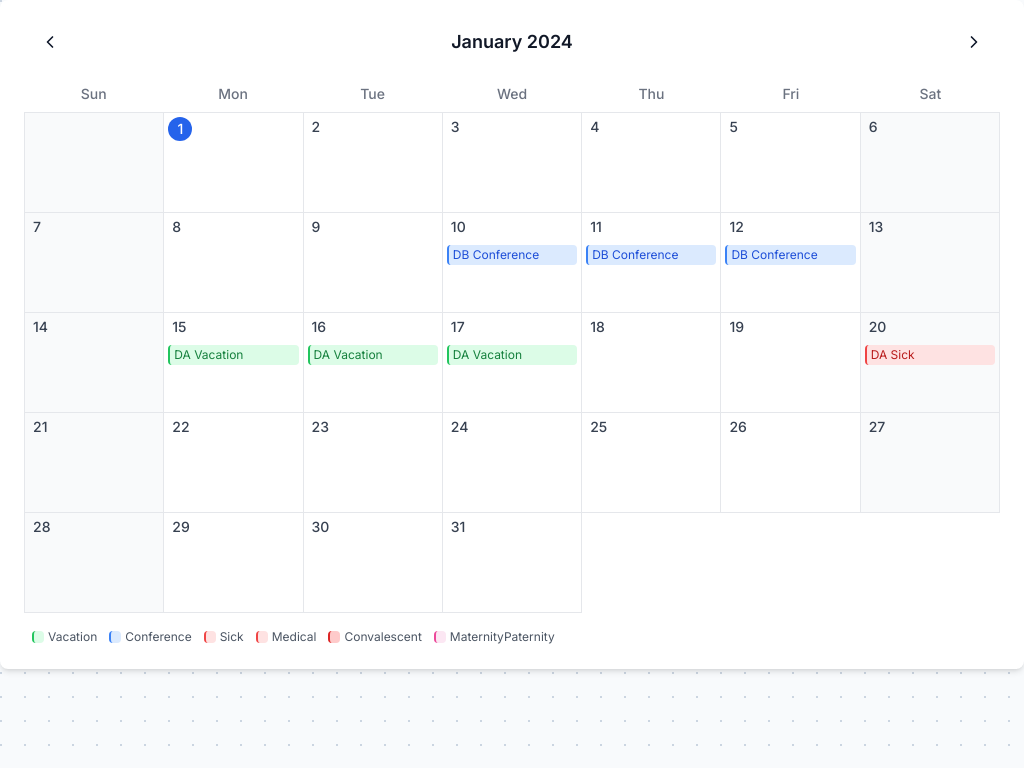
Test: BlockCalendar (AbsenceCalendar) › Navigation › should navigate to previous month
Expected: the heading "January 2024" is shown, x1=451 y1=28 x2=573 y2=56
Click the button named "Previous month" at (50, 42), box x1=32 y1=24 x2=68 y2=60
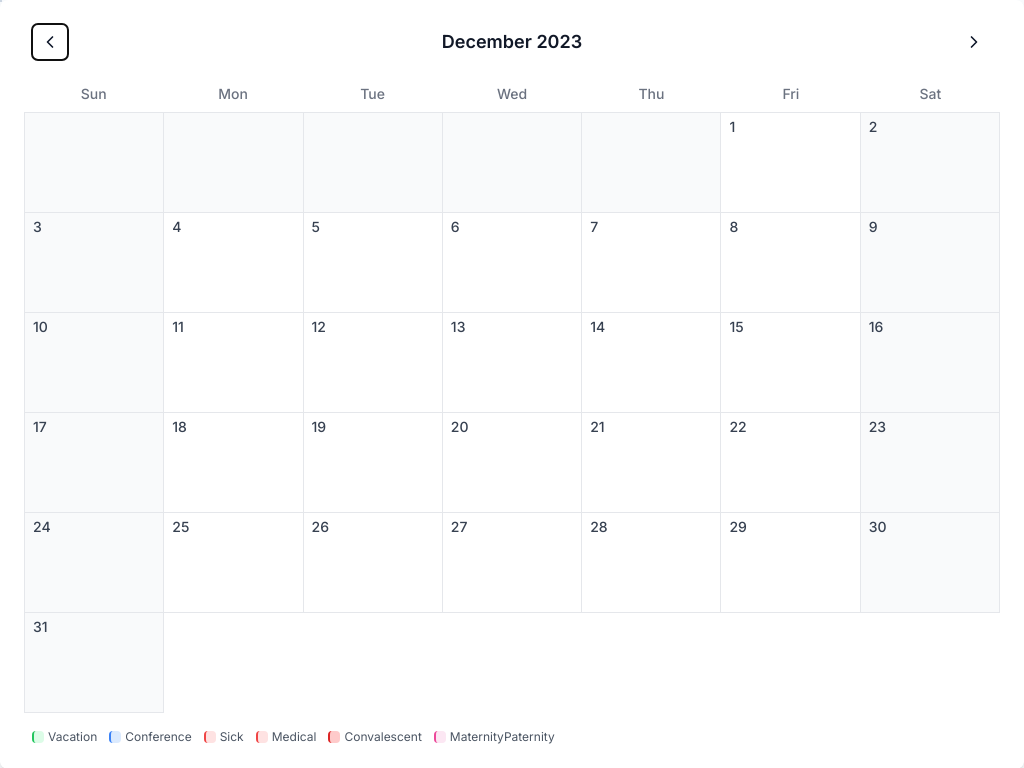
Expected: the heading "December 2023" is shown, x1=442 y1=28 x2=582 y2=56
